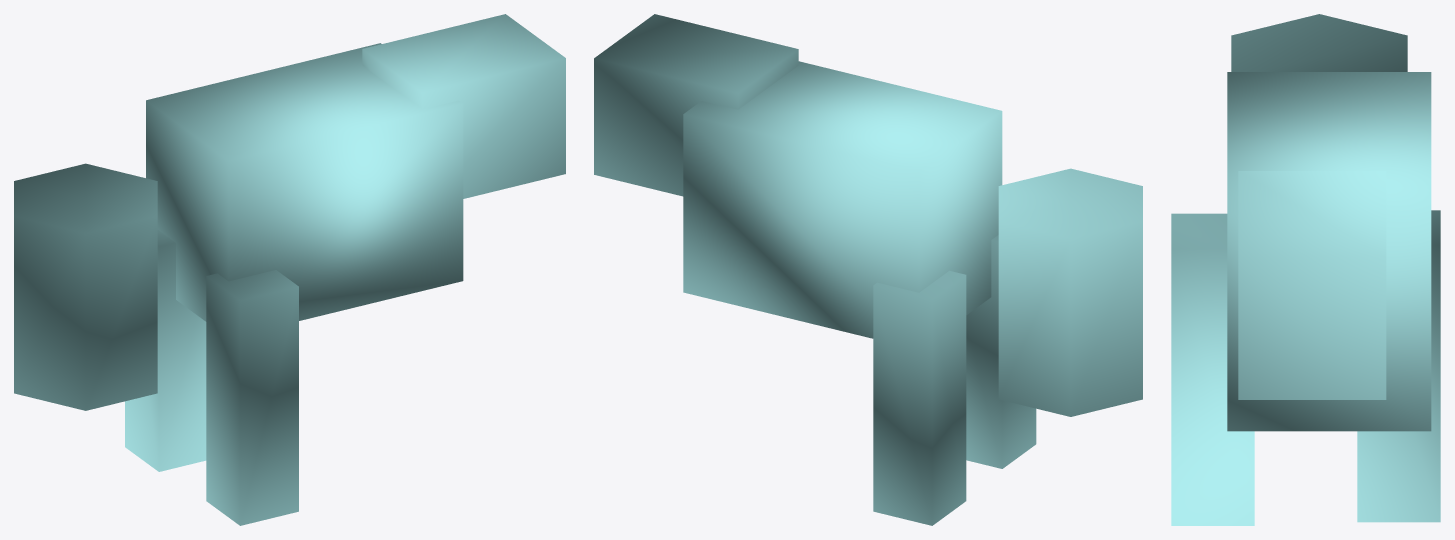
The model's file is ps2_jrpg_fire_elemental_enemy.obj.
The picture shows the model from 3 angles, left to right: view 1: azimuth 30°, elevation 25°; view 2: azimuth 150°, elevation 25°; view 3: azimuth 270°, elevation 25°; orthographic projection. The views are drawn at different scales.
Size of the model in its own units: 1.59 by 1.06 by 0.581.
